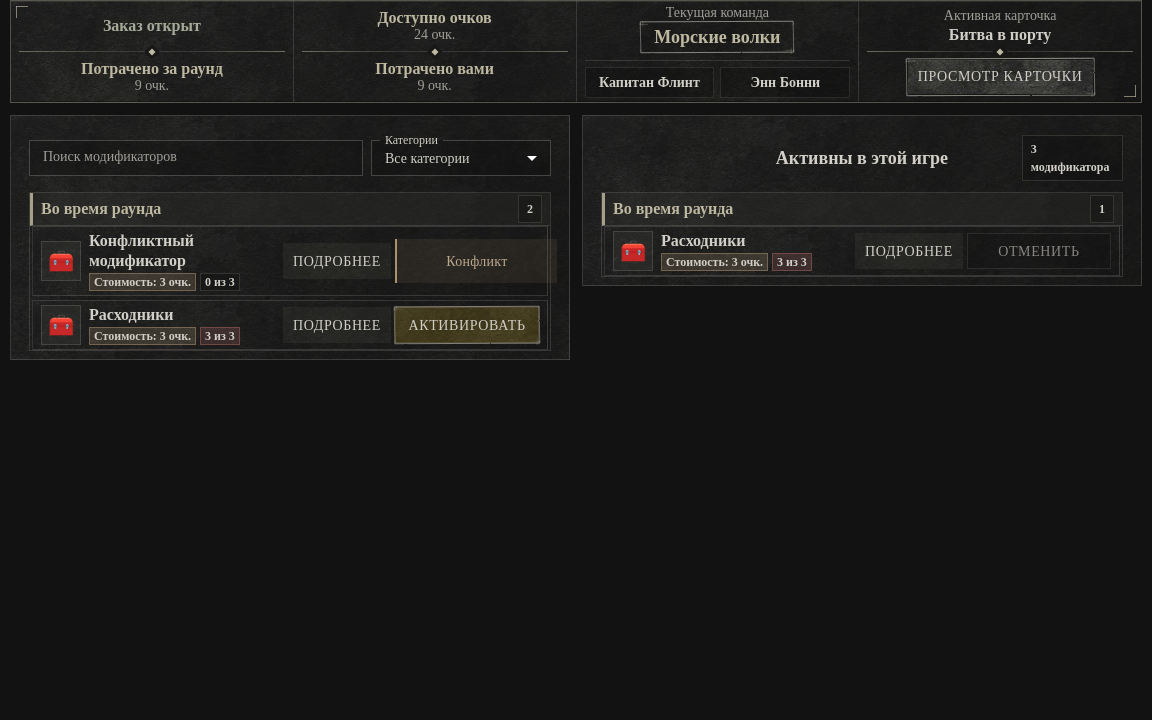
Test: GameModifiersPage › shows a compact conflict status and names its cause in the tooltip and details
This screenshot has width=1152, height=720.
Expected: the button "Конфликт" is shown, [446,252,508,271]
Hover over the message named "Заблокирован конфликтом с: Расходники".
mouse_move(476, 261)  # box [395,239,557,283]
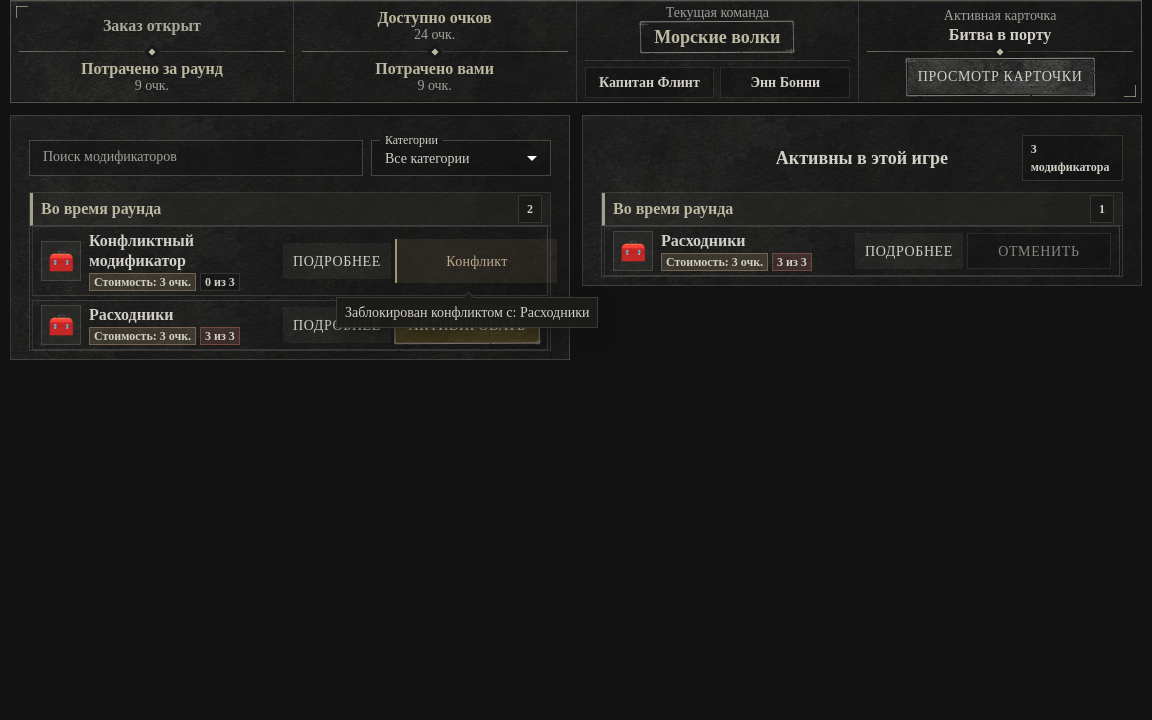
Expected: the tooltip reads "Заблокирован конфликтом с: Расходники", [345,305,590,320]
Click the button "Подробнее" next to "0 из 3".
click(337, 261)  # box [283,243,391,279]
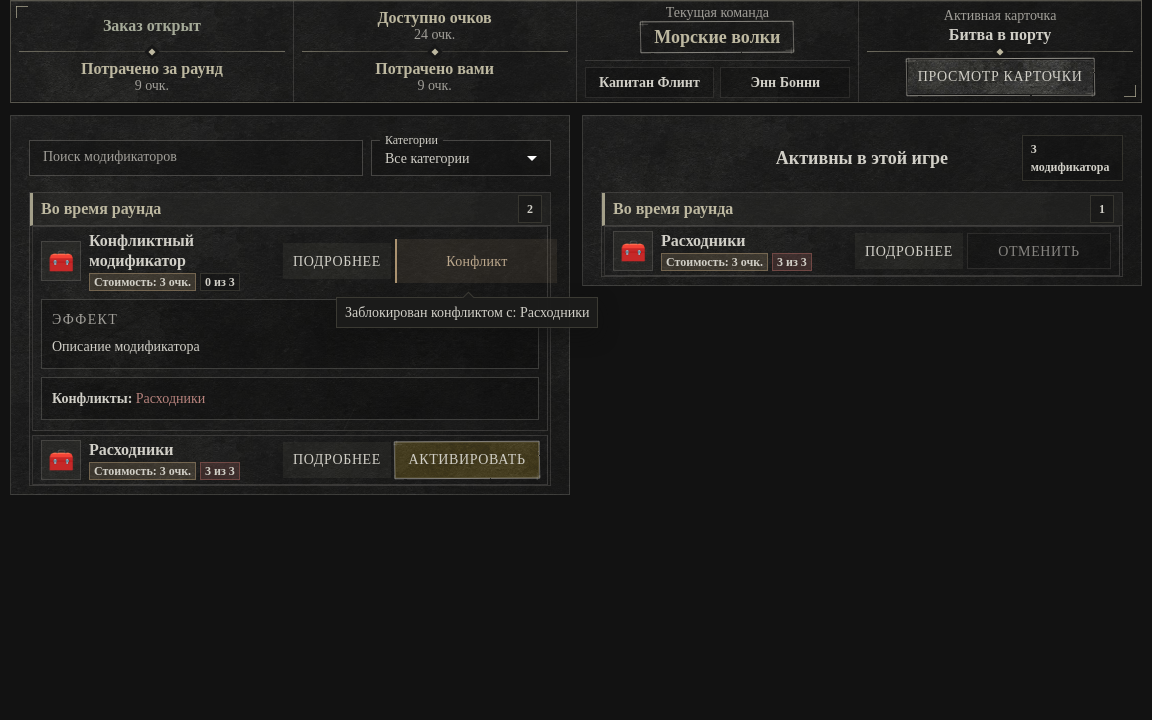
Expected: the element named "Несовместимые модификаторы" reads "Конфликты: Расходники", [41,377,539,420]
